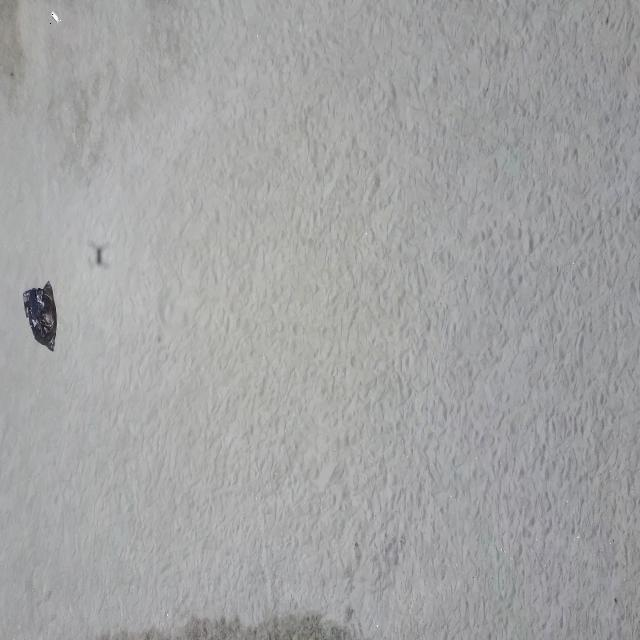Garbage: (24, 281, 55, 350)
